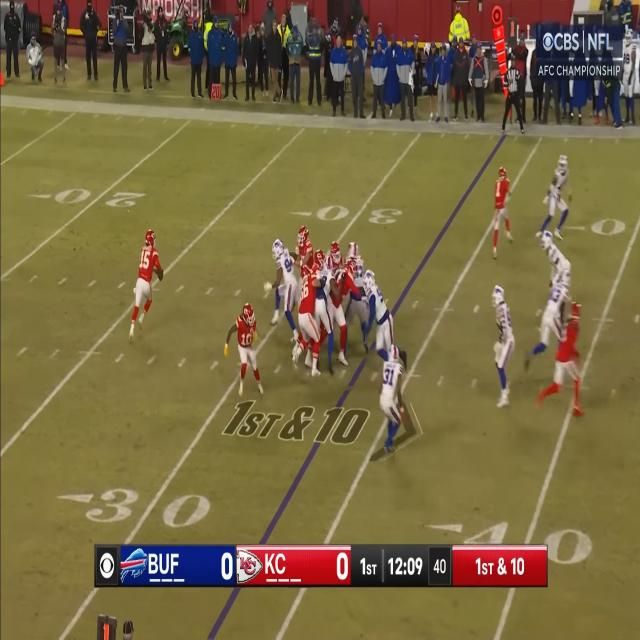Ball: (156, 266, 164, 282)
